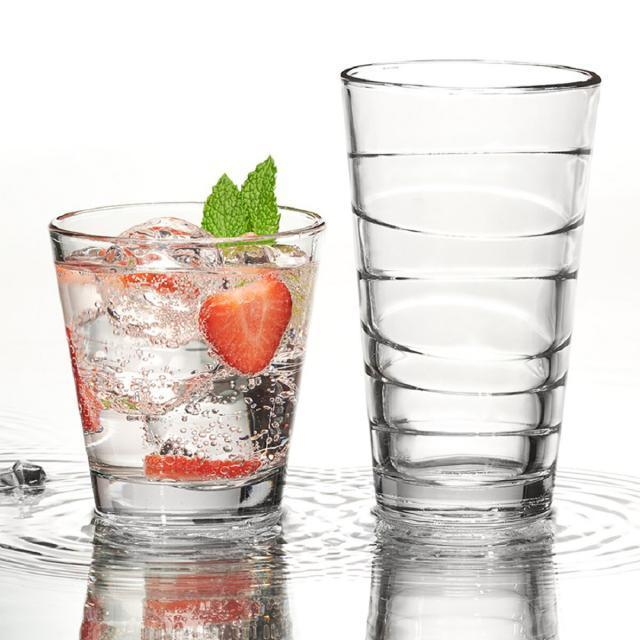glass: (344, 60, 604, 537), (55, 204, 325, 534)
